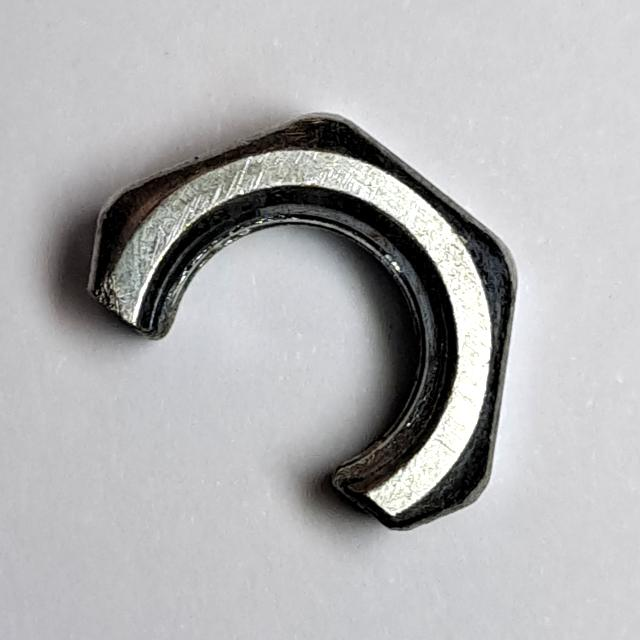Fracture: (72, 102, 528, 544)
